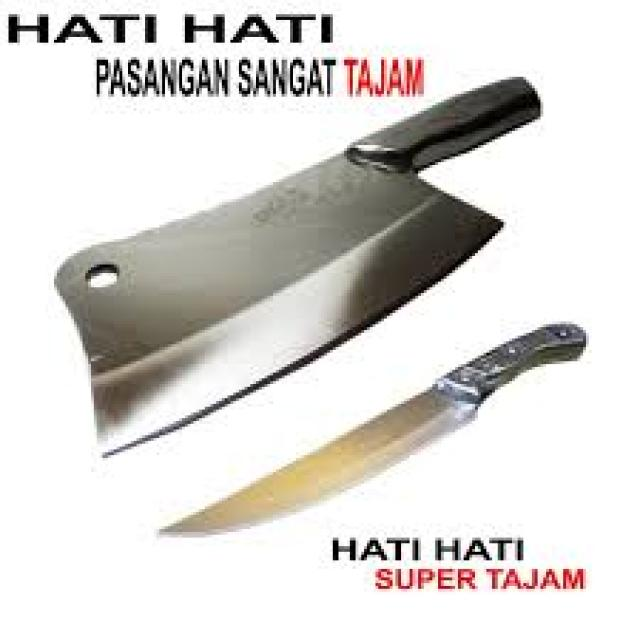Knife: (57, 77, 540, 455), (159, 321, 589, 535)
